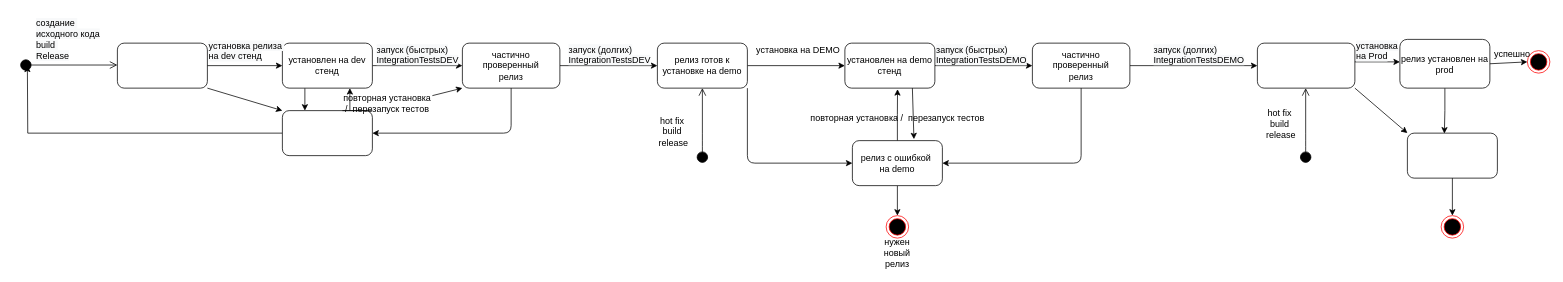
Some shapes in this 1563 by 282 pixel diagram are drawn without their labels. The box of each missing label's shape, as (x1, y1, x2, y2) in pixels:
release v x.x.x: (117, 42, 207, 88)
релиз готов к установке на prod: (1257, 42, 1355, 88)
релиз с ошибкой на dev: (282, 110, 372, 156)
релиз с ошибкой на prod: (1407, 132, 1497, 178)
